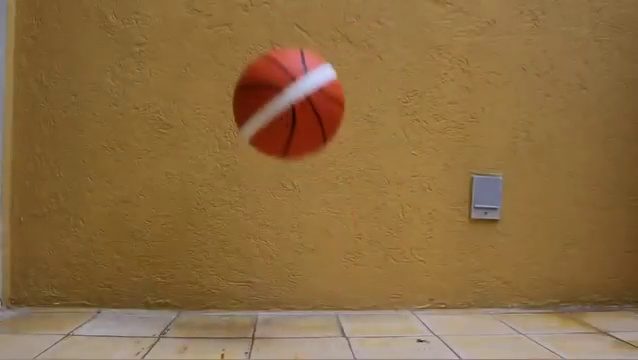ball: (233, 41, 345, 162)
